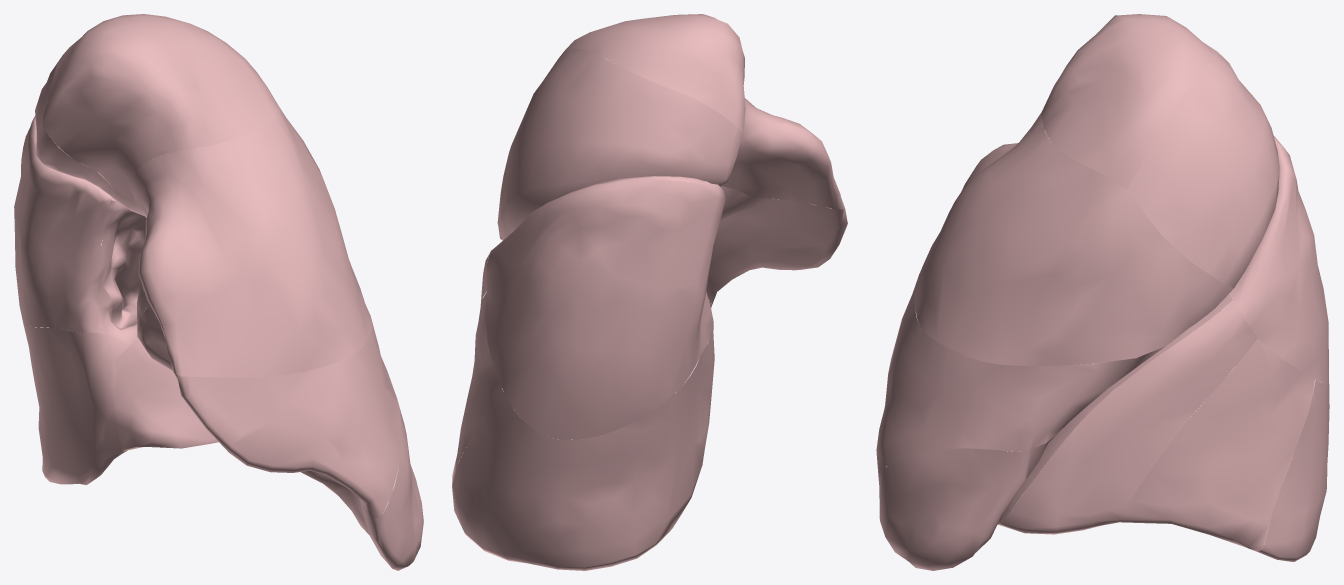
Rendered from lung_left.glb.
The picture shows the model from 3 angles, left to right: view 1: azimuth 30°, elevation 25°; view 2: azimuth 150°, elevation 25°; view 3: azimuth 270°, elevation 25°; orthographic projection. The views are drawn at different scales.
Visible parts, largest first — view 1: lung_left; view 2: lung_left; view 3: lung_left.
Part boxes in pixels (box(x1,y1,x2,y2)): lung_left: box(14, 14, 423, 570); lung_left: box(452, 14, 847, 570); lung_left: box(876, 14, 1329, 570).
Bounding box in the file's own units: 0.13 × 0.2207 × 0.1885.
